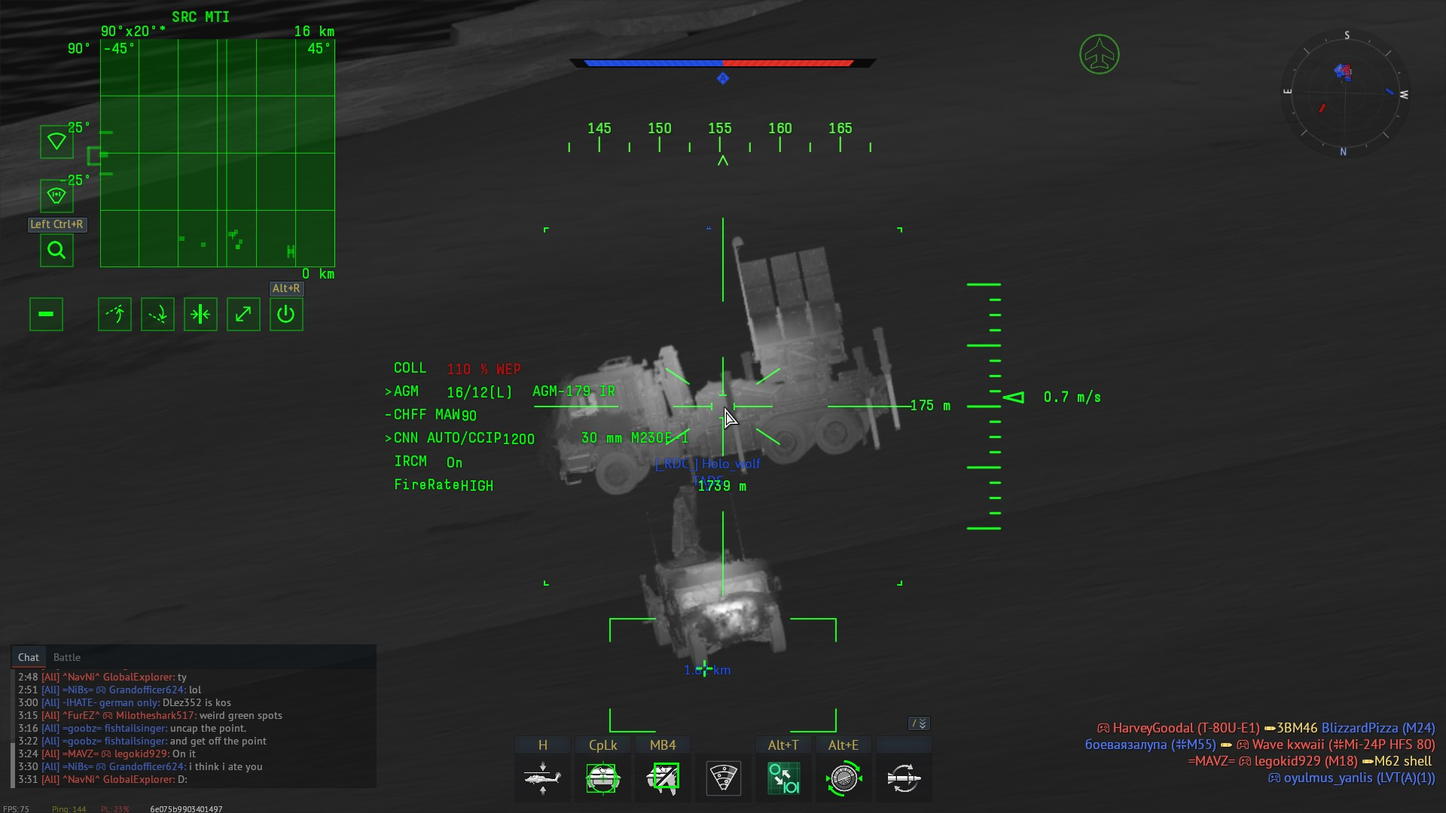spaa_TEL: (549, 245, 903, 496)
spaa_tads: (635, 486, 788, 674)
